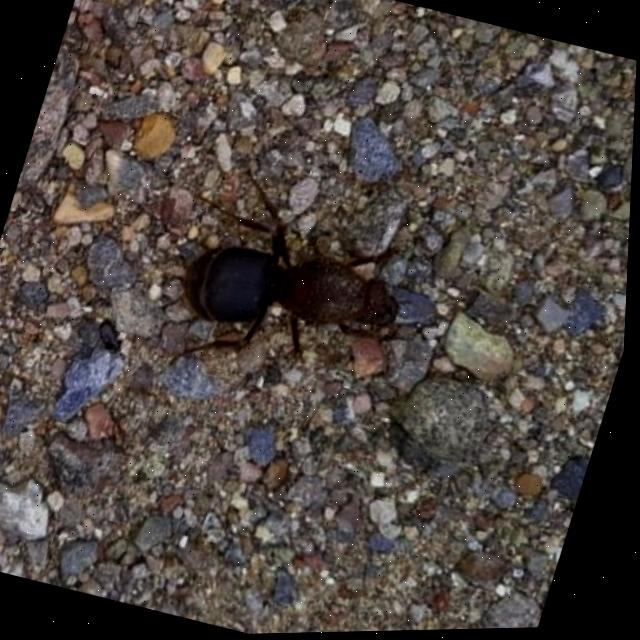Alive-Female-Dealate: (140, 157, 457, 439)
